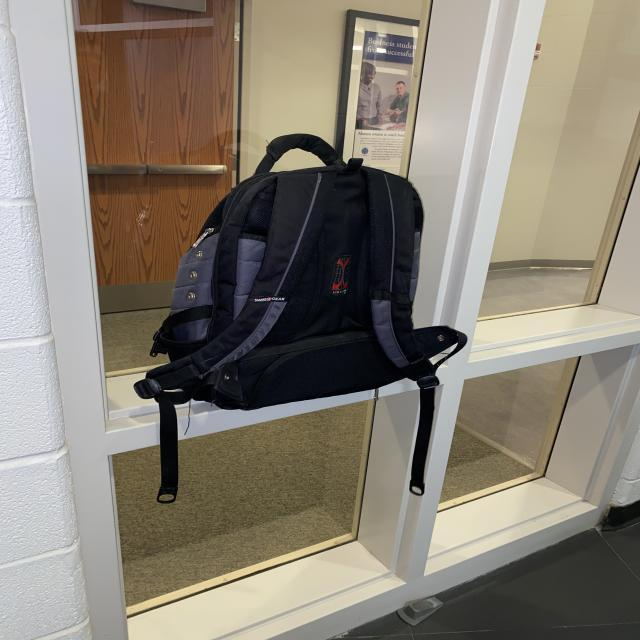Backpacks: (168, 130, 442, 410)
